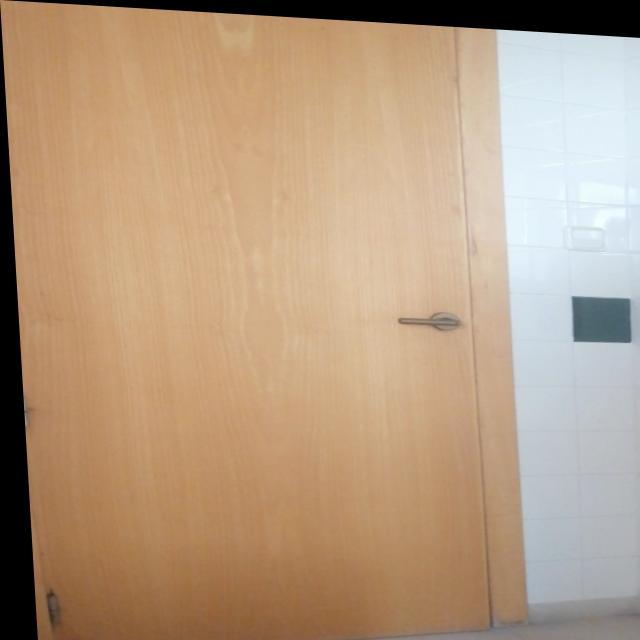door_handle: (390, 309, 460, 323)
